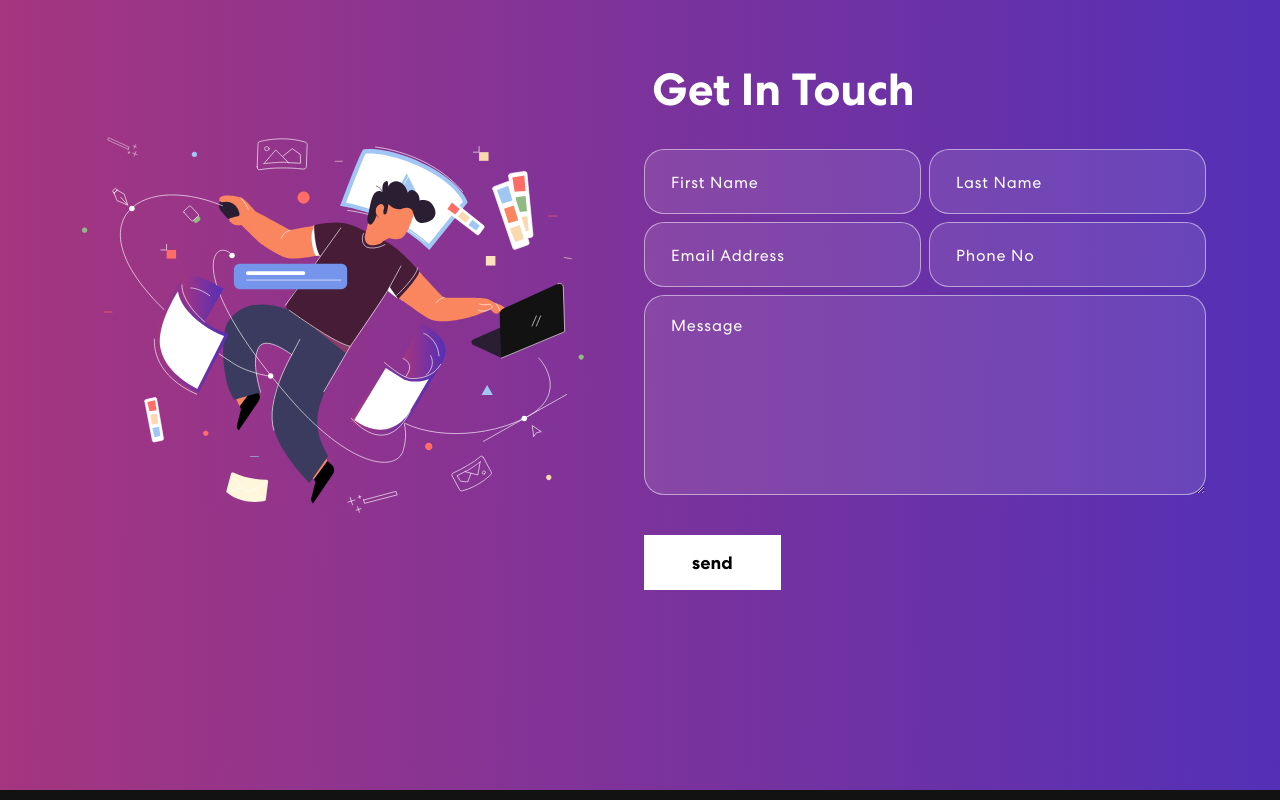
Test case: submit Contact form
This screenshot has width=1280, height=800.
Type "John" into the field with placeholder "First Name" at coordinates (782, 182), box [644,149,921,214]
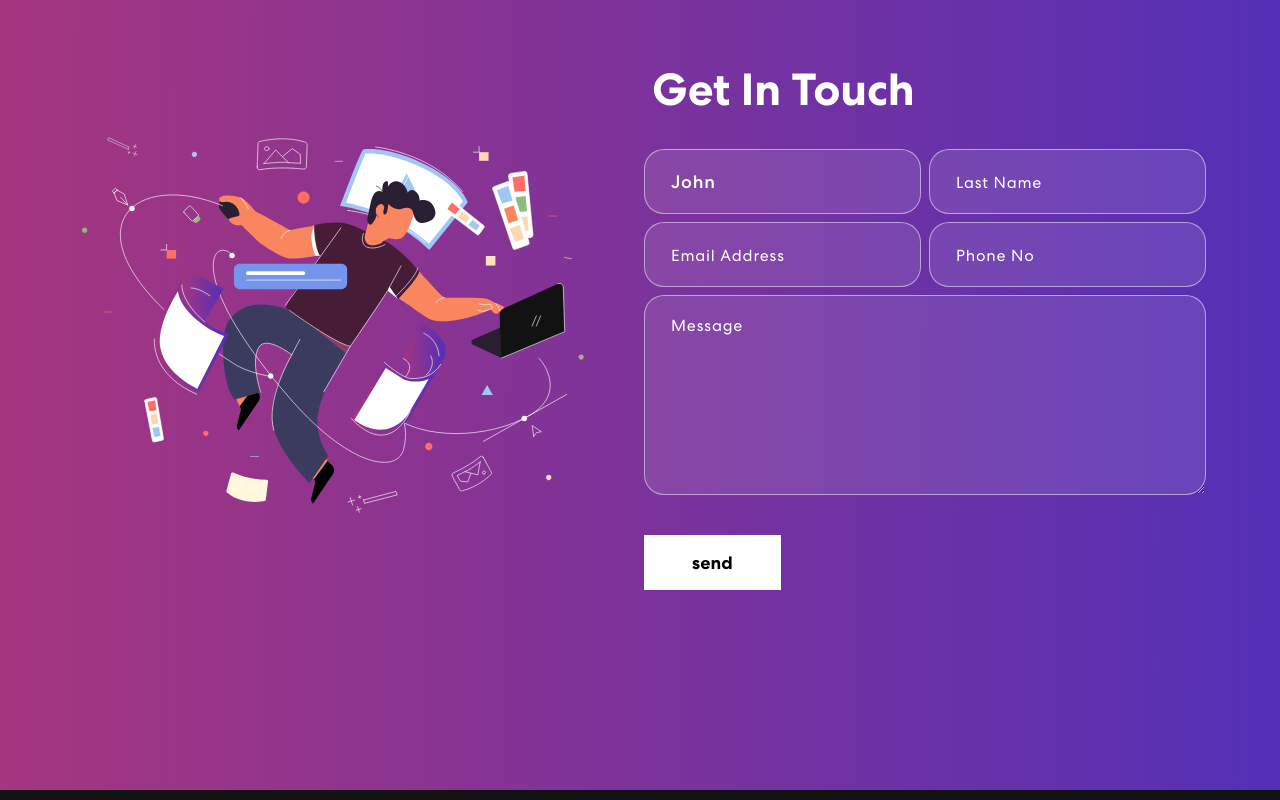
Click the button "send" at coordinates (712, 562), box [644,535,781,590]
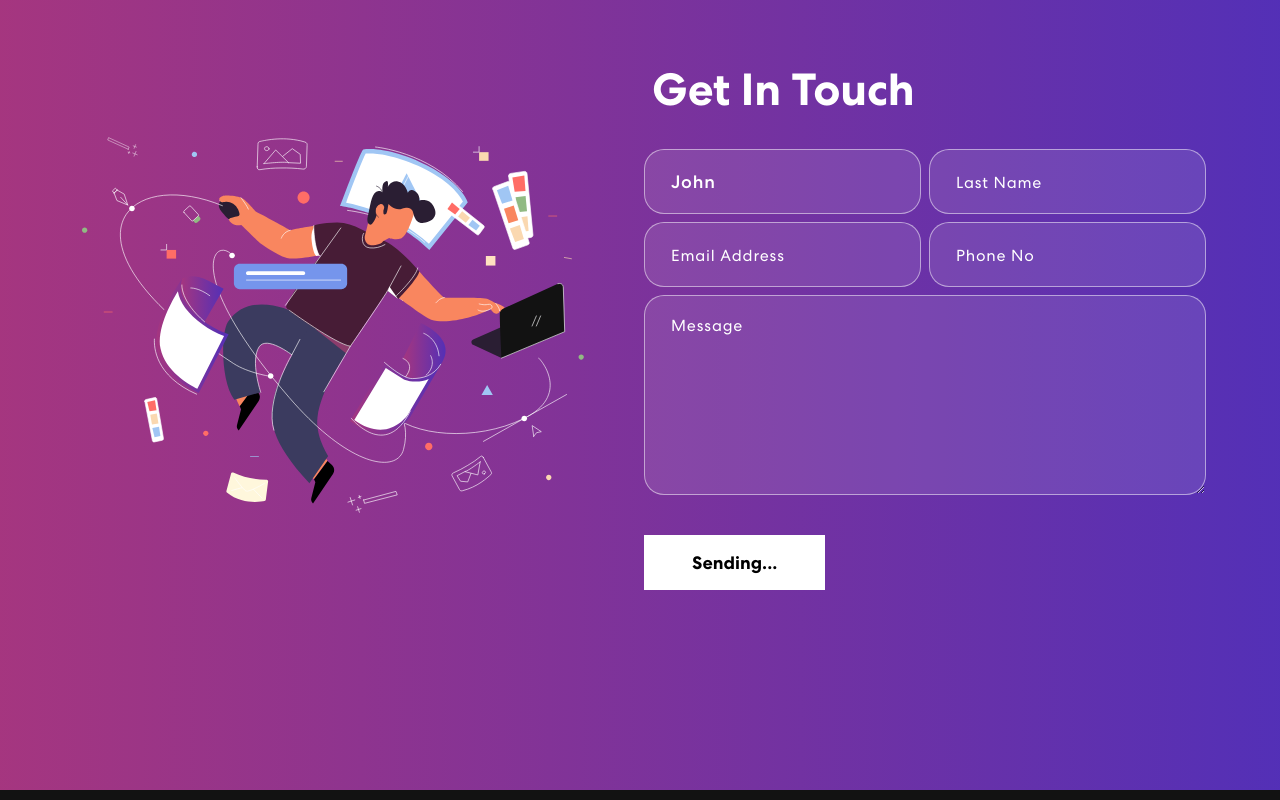
Check: the text "Sending..." is shown, box [692,551,777,574]
